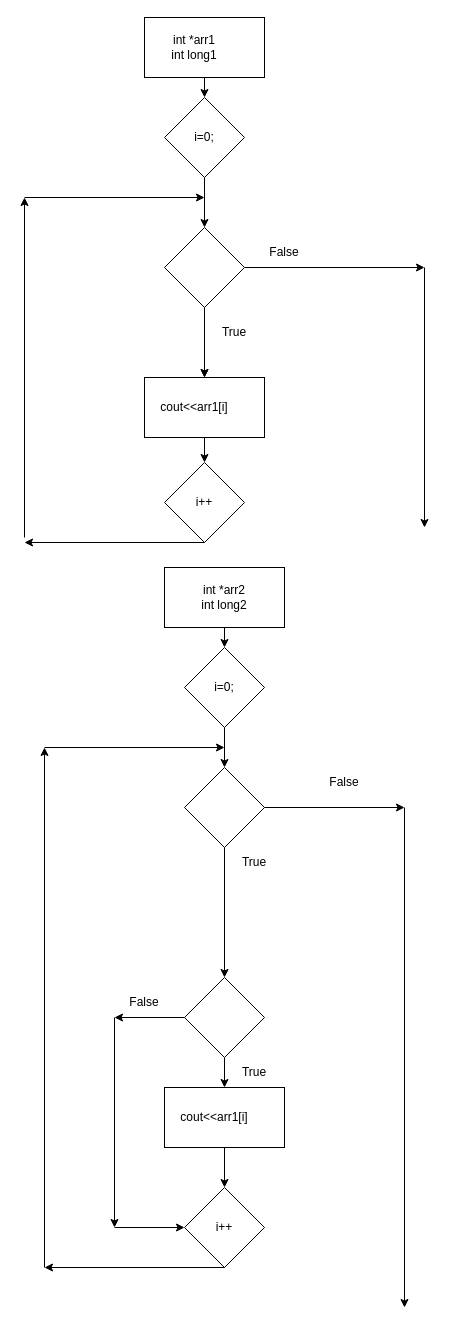
This 450x1333 diagram has some shape labels left out. The shapes that lost their labels are listed below. From the top down, each one's centre as x and y in pixels, then its label:
At point 204,267: "i<long1;".
At point 224,807: "i<long2;".
At point 224,1017: "seacrch_colvo=0".
